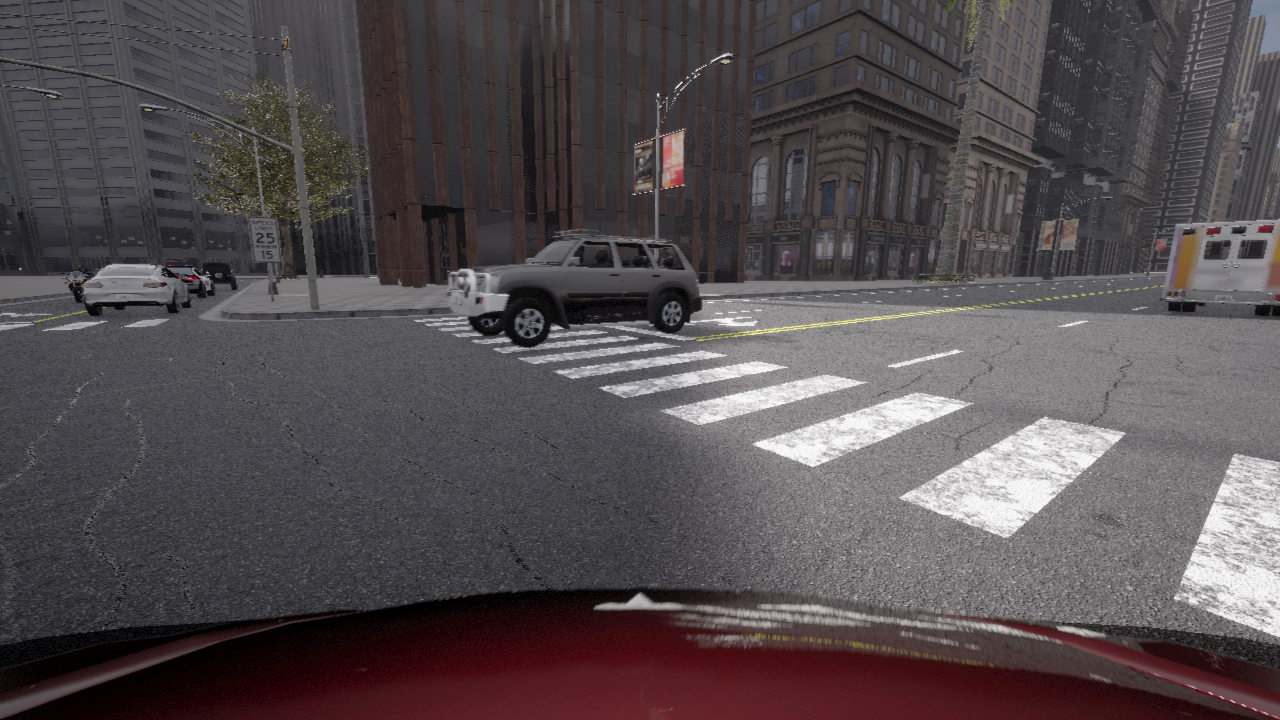cyclist: (0, 588, 1279, 719), (448, 229, 702, 347), (1160, 219, 1279, 315), (83, 263, 191, 315), (164, 265, 215, 297), (59, 271, 92, 302), (201, 262, 236, 289)
